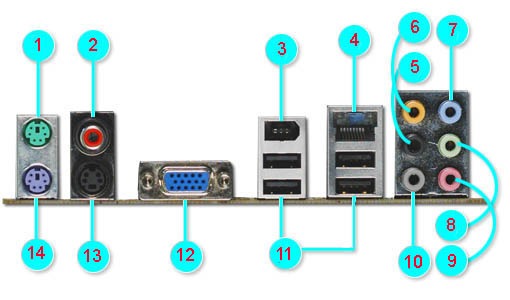Audio: (399, 167, 426, 191)
USB: (331, 147, 380, 170), (333, 175, 378, 197), (261, 149, 304, 172), (262, 177, 303, 197)
VGA: (158, 165, 215, 197)
